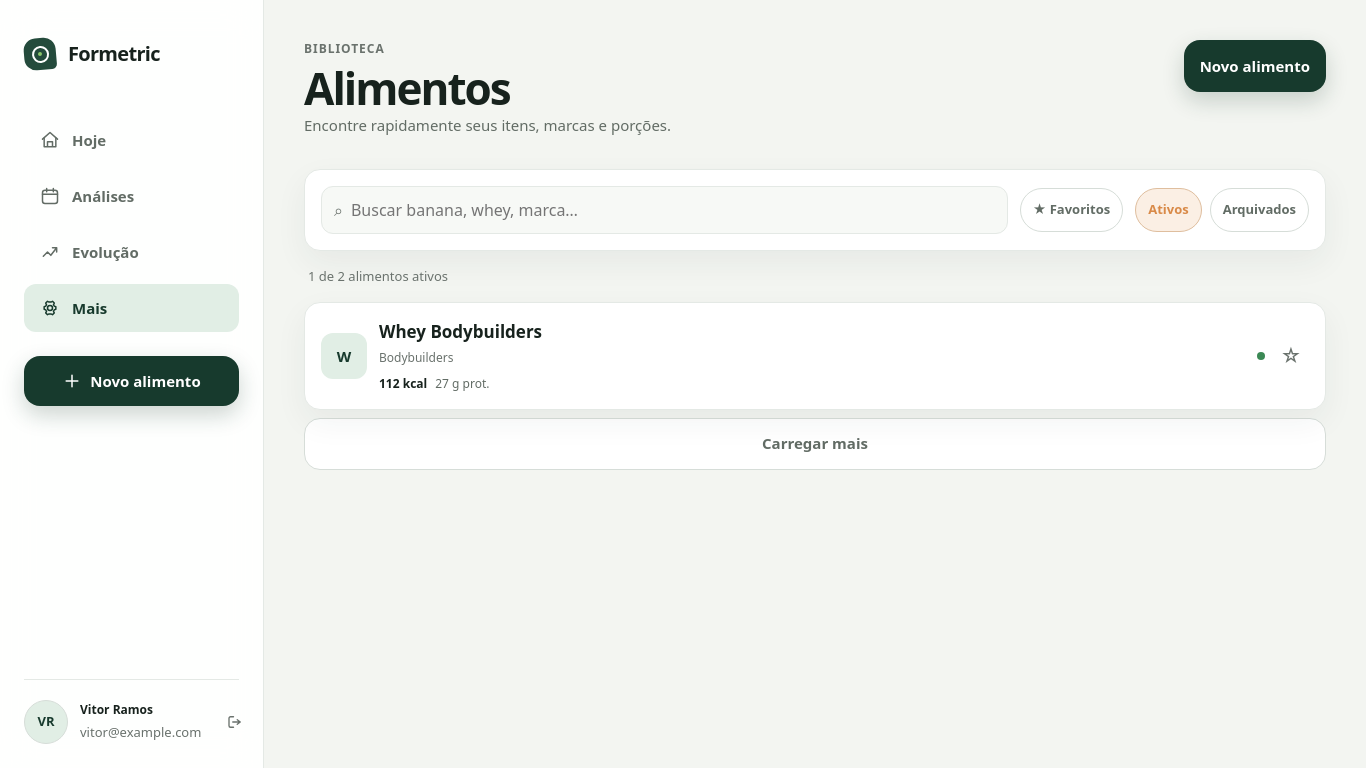
Test: catálogo › carrega as páginas seguintes do catálogo em vez de truncar em silêncio
Expected: the text "1 de 2 alimentos ativos" is shown, [308,266,448,284]
Expected: the text "Arroz integral" is not shown
Step 1. Click the button "Carregar mais" → (815, 444), box [304,418,1326,470]
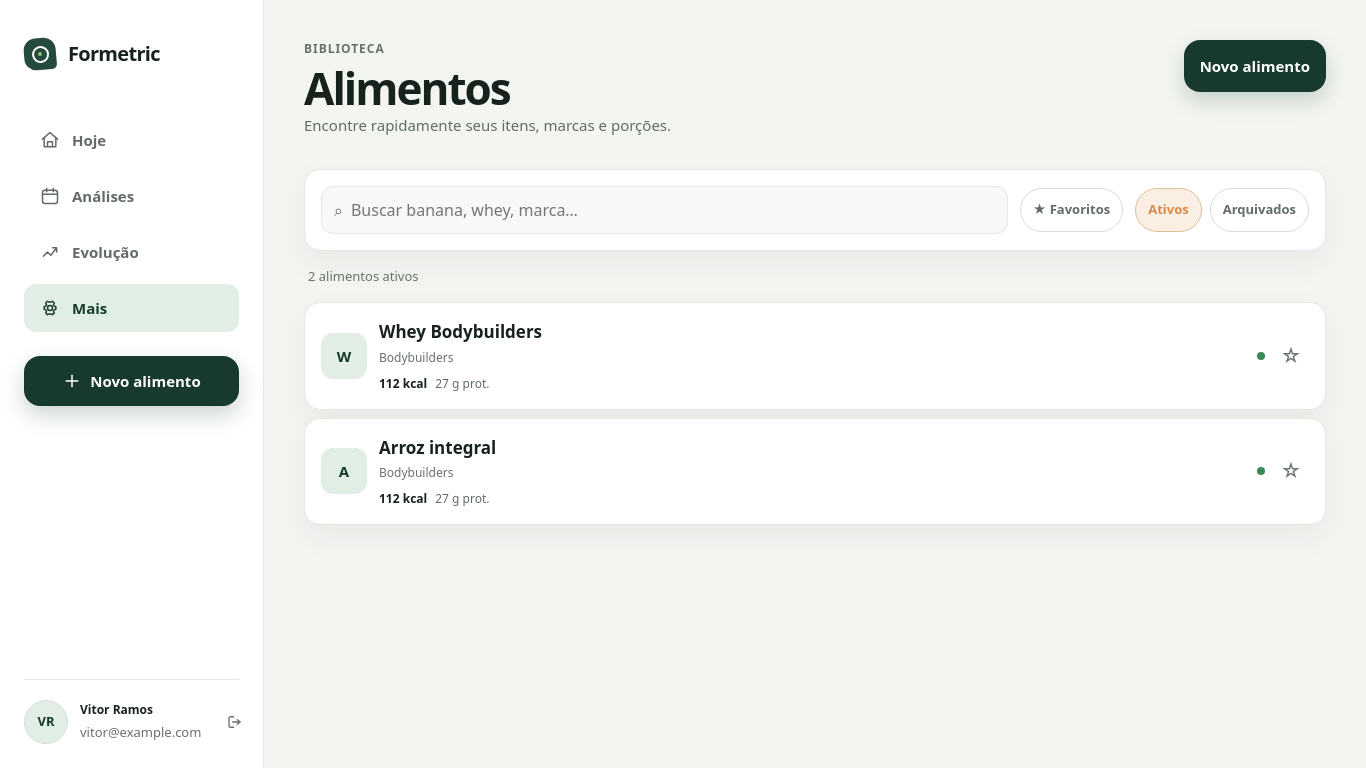
Expected: the text "2 alimentos ativos" is shown, [308,266,418,284]
Result: the text "Arroz integral" is shown at [379,436,496,458]
Result: the button "Carregar mais" is gone
